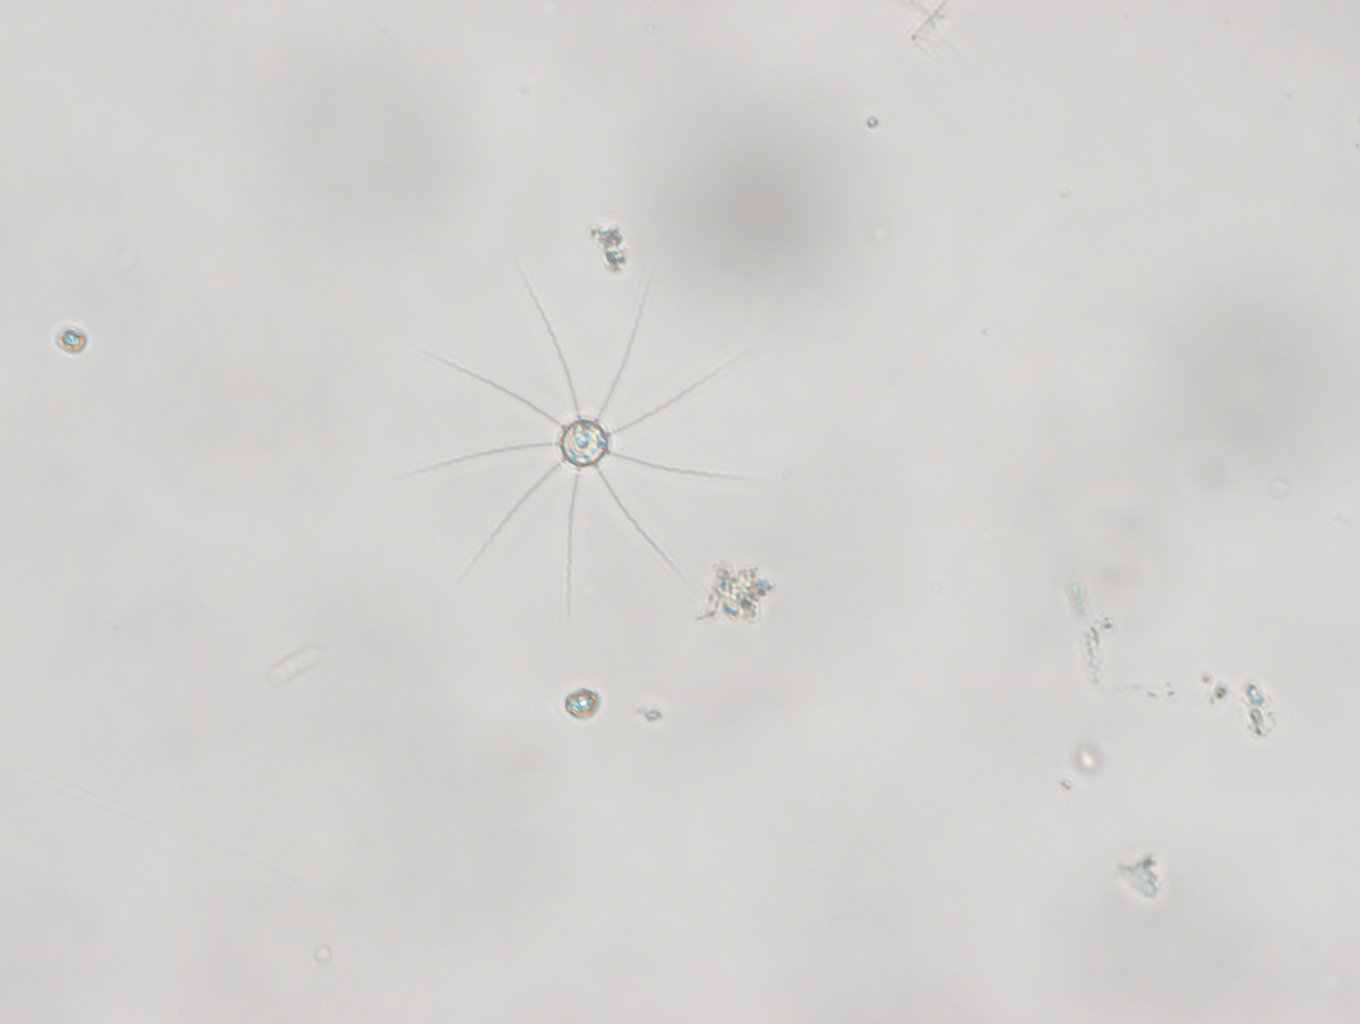bacteriastrum: (389, 248, 785, 626)
